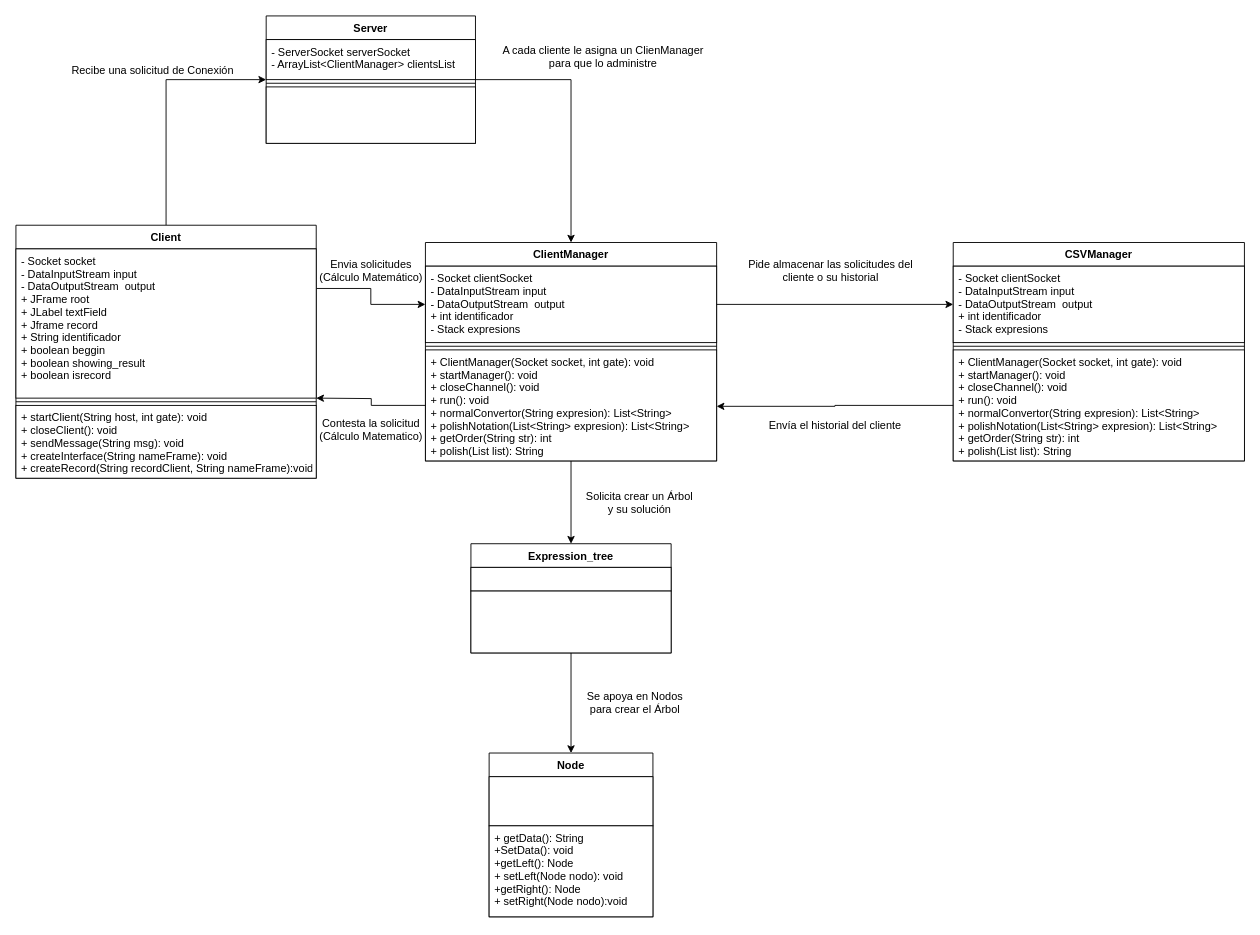
Image size: 1260x935. Some labels were removed from this diagram. The shapes that lost their labels are listed below. From the top down, each one's centre as x and y in pixels, then its label:
the point at 370,114: + Server(): void + startServer(): void + closeServer(): void
the point at 570,578: + String : postfix
the point at 570,621: +Solve(): int +operador(char f): boolean +get_root(): Node root
the point at 570,801: + String: data + Node: left +Node: right
